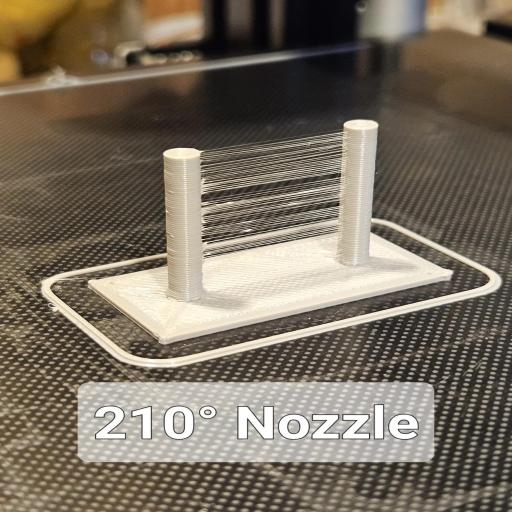stringing: (201, 134, 345, 259)
